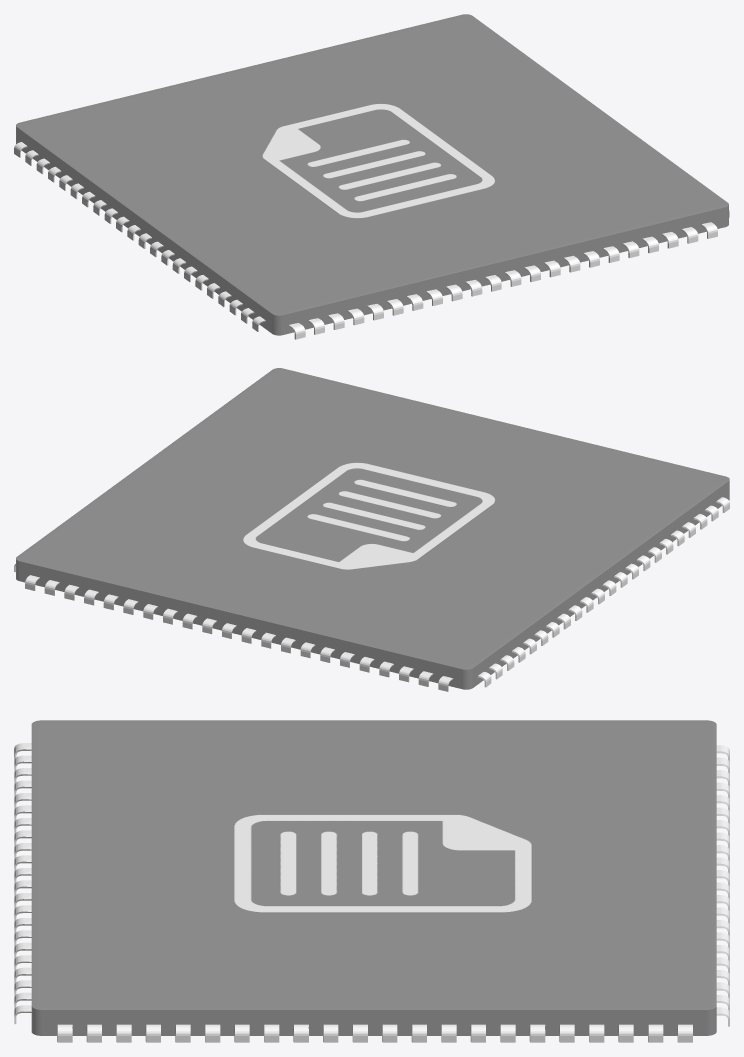
Rendered from resume.glb.
3 views of the same model, one above another, from view 1: azimuth 30°, elevation 25°; view 2: azimuth 150°, elevation 25°; view 3: azimuth 270°, elevation 25° (orthographic). The views are drawn at different scales.
Visible parts, largest first — view 1: Resume, Plane.092; view 2: Resume, Plane.092; view 3: Resume, Plane.092.
Boxes of the visible parts, x1,y1,x2,y2 form: Resume: [16, 14, 728, 335]; Plane.092: [262, 103, 494, 218]; Resume: [16, 368, 729, 689]; Plane.092: [243, 462, 495, 569]; Resume: [31, 720, 716, 1035]; Plane.092: [234, 814, 531, 912].
Size of the model in its own units: 24.01 by 1.09 by 24.24.
3 materials, 2 textured.
